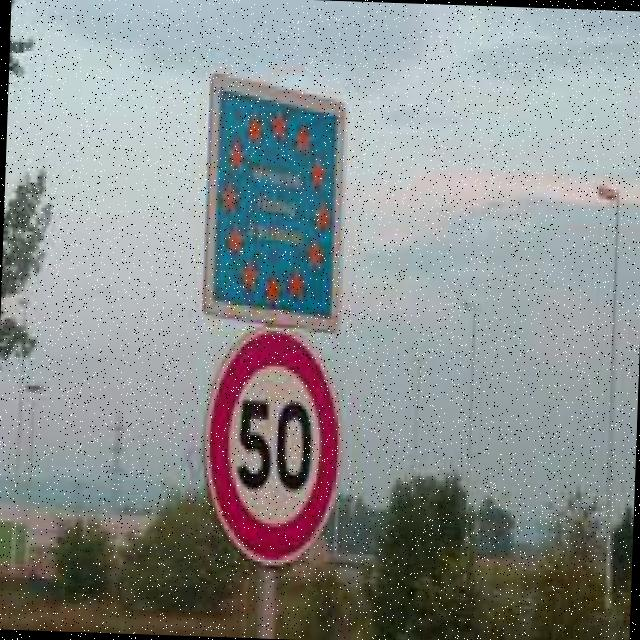Ograniczenie predkosci do 50: (198, 322, 346, 568)
